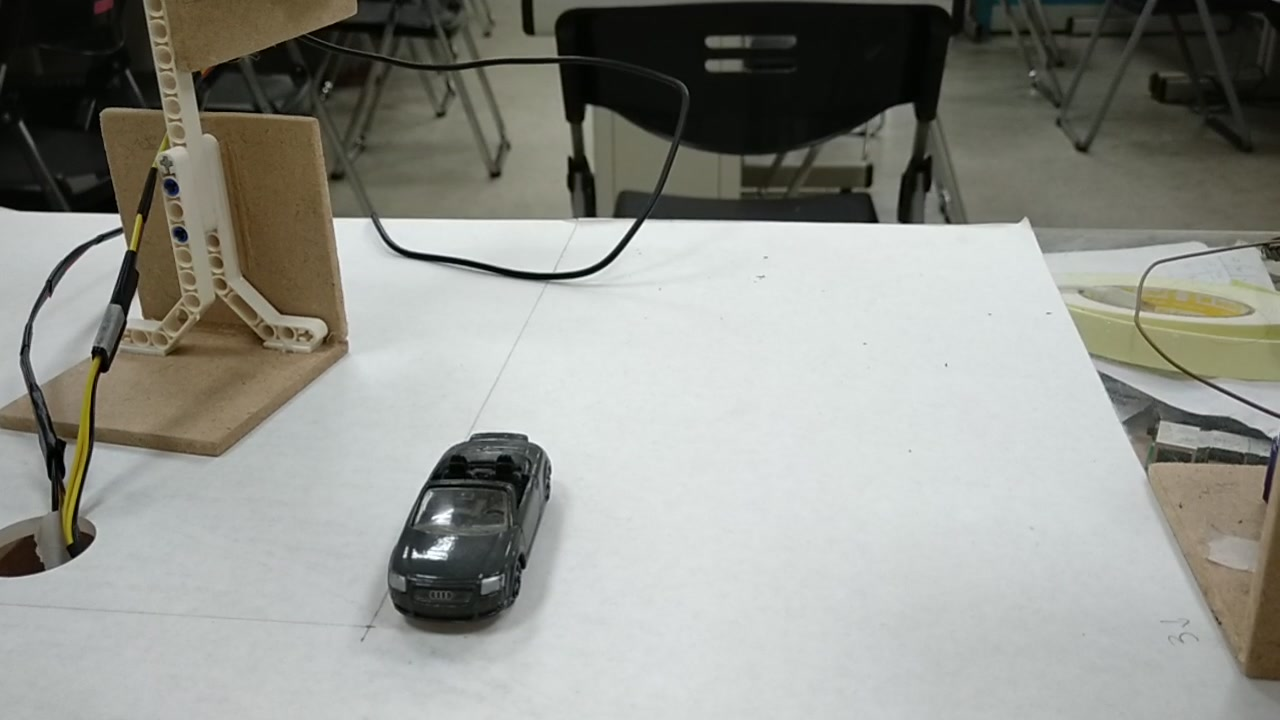car: (384, 444, 555, 615)
